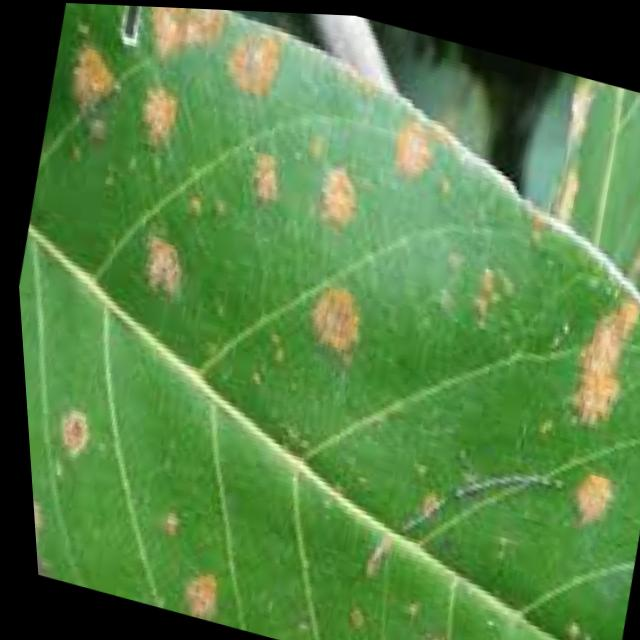Algal Leaf Spot: (446, 236, 577, 375), (547, 264, 640, 448), (44, 11, 130, 139), (219, 10, 312, 120), (107, 63, 192, 175), (116, 216, 206, 316), (296, 148, 379, 244), (548, 453, 631, 547), (137, 5, 241, 79), (296, 261, 372, 359), (42, 371, 110, 474), (389, 89, 455, 193), (229, 125, 282, 208), (407, 607, 469, 640)
